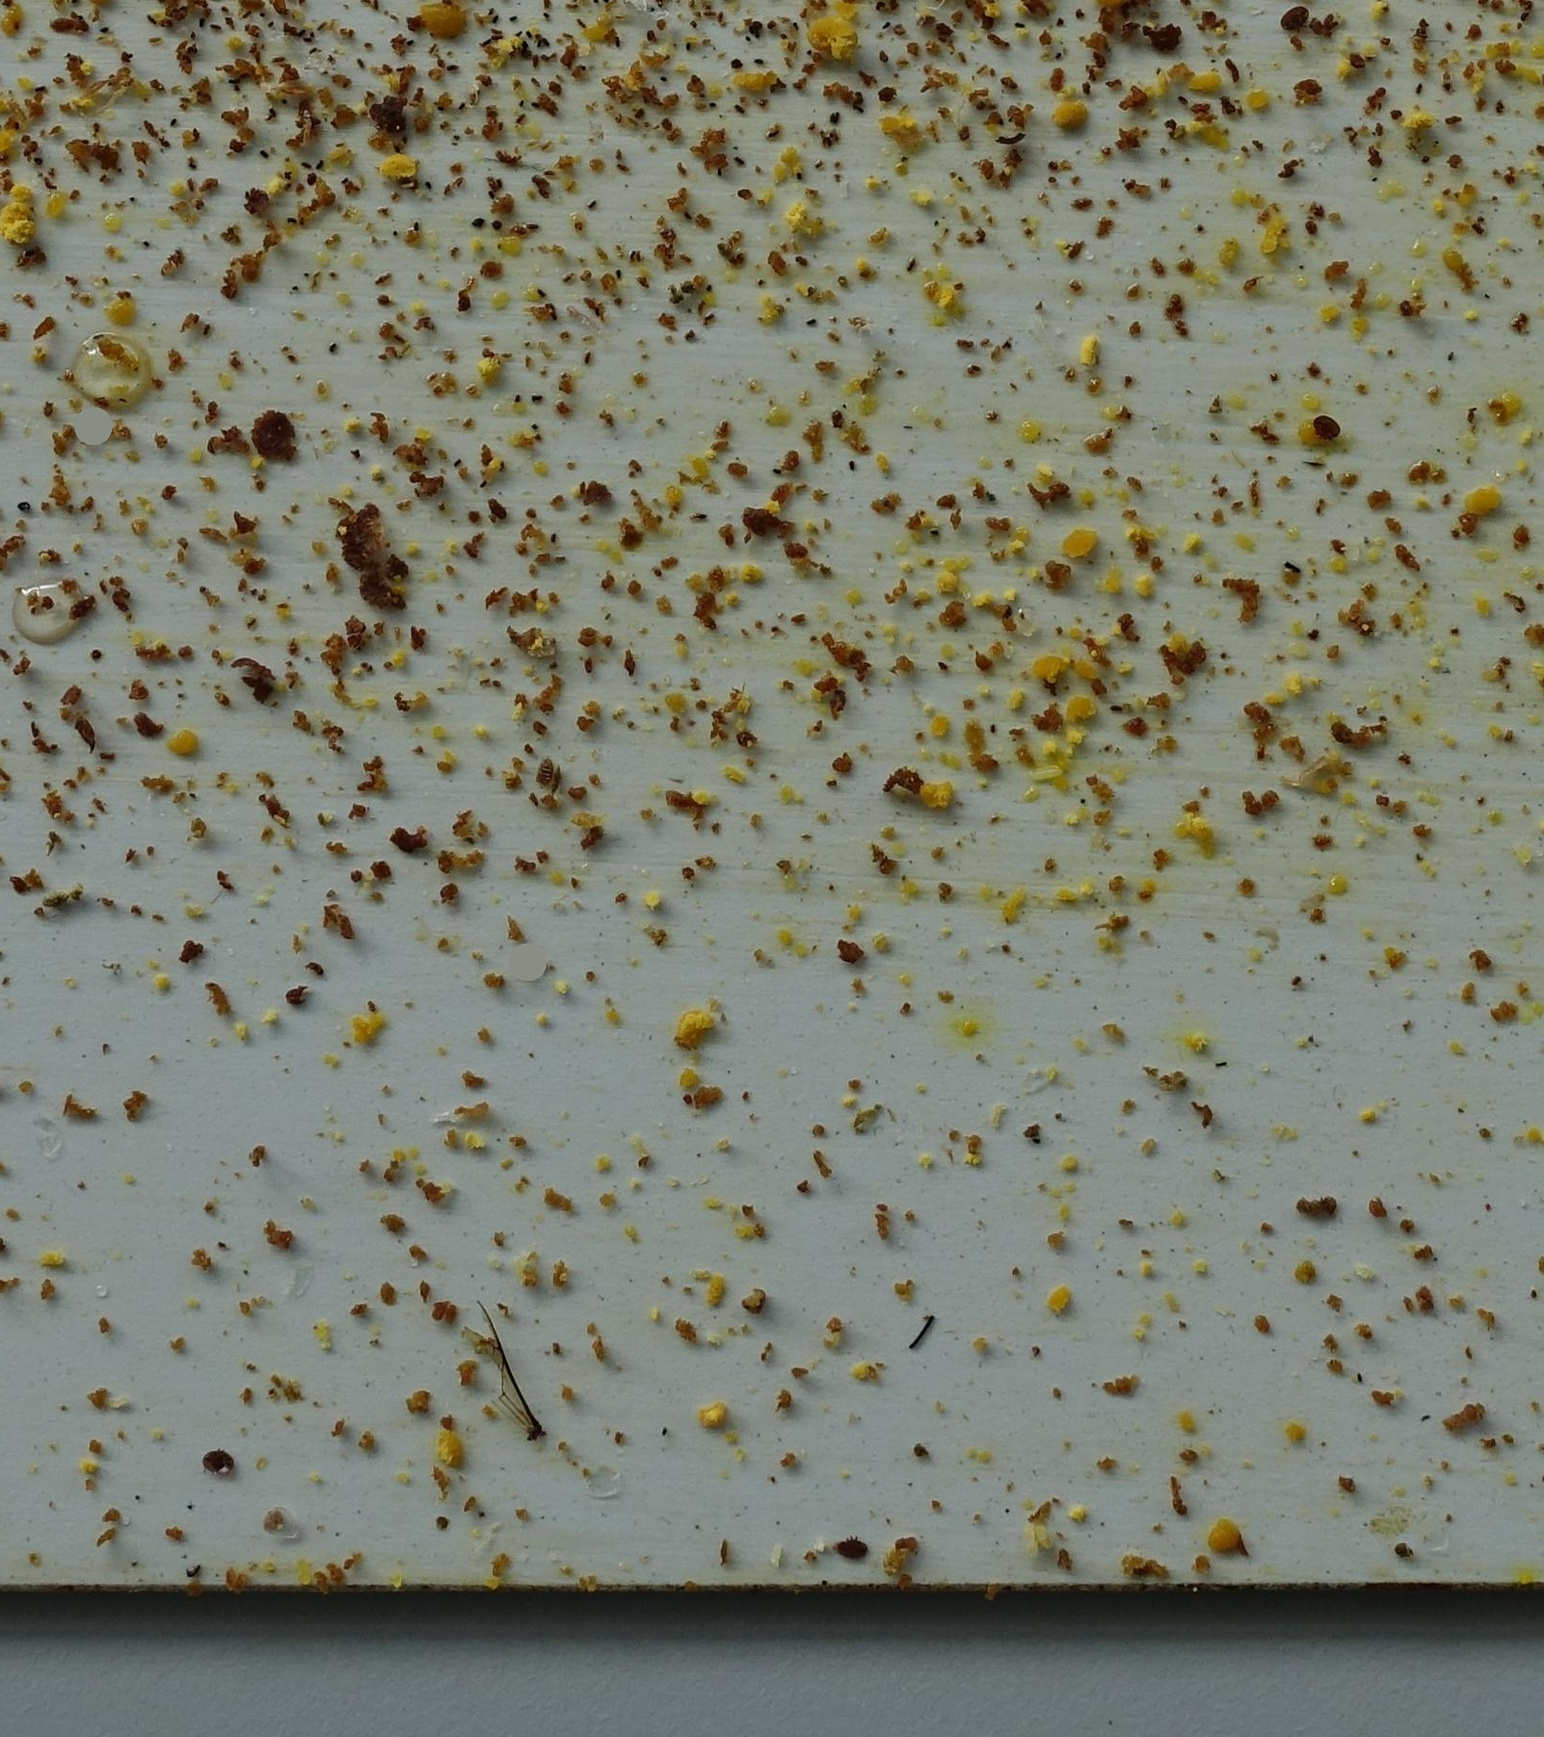Varroa: (1145, 22, 1183, 63), (240, 185, 277, 220), (1285, 3, 1314, 34), (203, 1451, 230, 1478), (839, 1534, 864, 1563), (1314, 410, 1338, 434)
